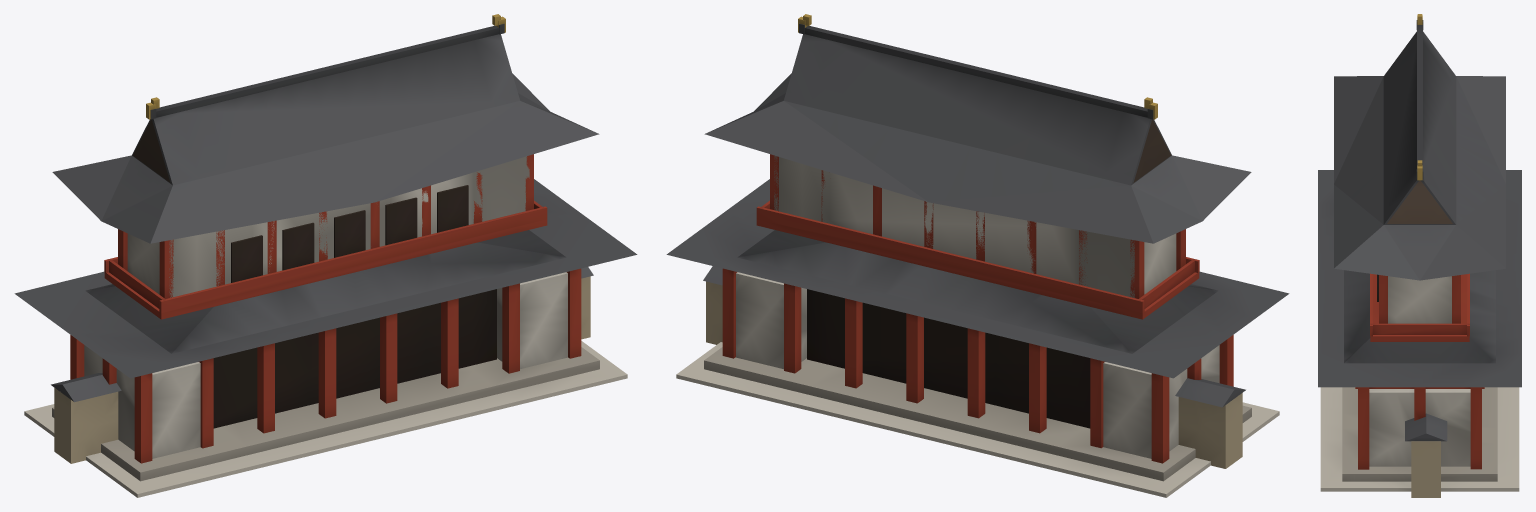
The model's file is rajomon.glb.
The picture shows the model from 3 angles, left to right: view 1: azimuth 30°, elevation 25°; view 2: azimuth 150°, elevation 25°; view 3: azimuth 270°, elevation 25°; orthographic projection. The views are drawn at different scales.
Visible parts, largest first — view 1: p2_roofs, p1_halls, p0_grounds; view 2: p2_roofs, p1_halls, p0_grounds; view 3: p2_roofs, p1_halls, p0_grounds.
Boxes of the visible parts, x1=… form: p2_roofs: x1=14, y1=14, x2=637, y2=378; p1_halls: x1=52, y1=154, x2=599, y2=481; p0_grounds: x1=24, y1=267, x2=627, y2=497; p2_roofs: x1=666, y1=14, x2=1289, y2=378; p1_halls: x1=704, y1=154, x2=1251, y2=481; p0_grounds: x1=676, y1=266, x2=1279, y2=497; p2_roofs: x1=1318, y1=14, x2=1521, y2=387; p1_halls: x1=1342, y1=273, x2=1497, y2=481; p0_grounds: x1=1320, y1=387, x2=1519, y2=497.
Size of the model in its own units: 42.42 by 26.48 by 16.4.
